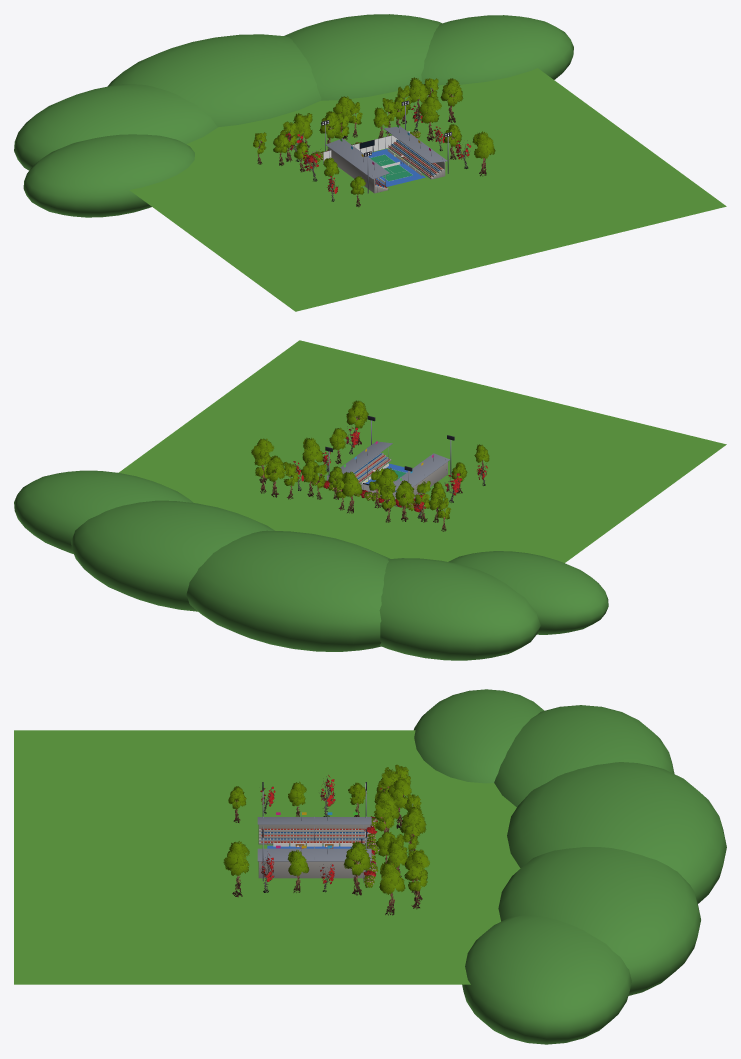
The model's file is court.glb.
3 views of the same model, one above another, from view 1: azimuth 30°, elevation 25°; view 2: azimuth 150°, elevation 25°; view 3: azimuth 270°, elevation 25° (orthographic). The views are drawn at different scales.
Visible parts, largest first — view 1: ground, hill, Bark_NormalTree.001, logam, Bark_NormalTree, beton, Bark_TwistedTree, court_out; view 2: ground, hill, Bark_NormalTree.001, Bark_NormalTree, logam, Bark_TwistedTree, beton; view 3: ground, hill, Bark_NormalTree.001, beton, logam, Bark_NormalTree, Bark_TwistedTree.
Part boxes in pixels (x1,y1,x2,y2): ground: (129, 68, 726, 311); hill: (14, 14, 573, 217); Bark_NormalTree.001: (273, 77, 495, 207); logam: (323, 105, 448, 193); Bark_NormalTree: (253, 78, 438, 164); beton: (328, 140, 445, 193); Bark_TwistedTree: (285, 104, 471, 201); court_out: (368, 149, 425, 186); ground: (118, 340, 726, 562); hill: (14, 470, 608, 660); Bark_NormalTree.001: (251, 400, 489, 522); Bark_NormalTree: (255, 452, 451, 531); logam: (327, 420, 451, 496); Bark_TwistedTree: (293, 426, 487, 518); beton: (332, 453, 447, 507); ground: (14, 730, 520, 984); hill: (414, 689, 726, 1044); Bark_NormalTree.001: (223, 778, 429, 915); beton: (258, 824, 370, 878); logam: (257, 790, 371, 882); Bark_NormalTree: (374, 764, 427, 909); Bark_TwistedTree: (260, 775, 393, 892).
Bounding box in the file's own units: 183 × 29.67 × 166.
Materials: 39 (9 with a texture image).
